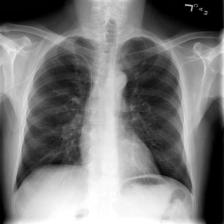normal: (9, 31, 196, 200)
